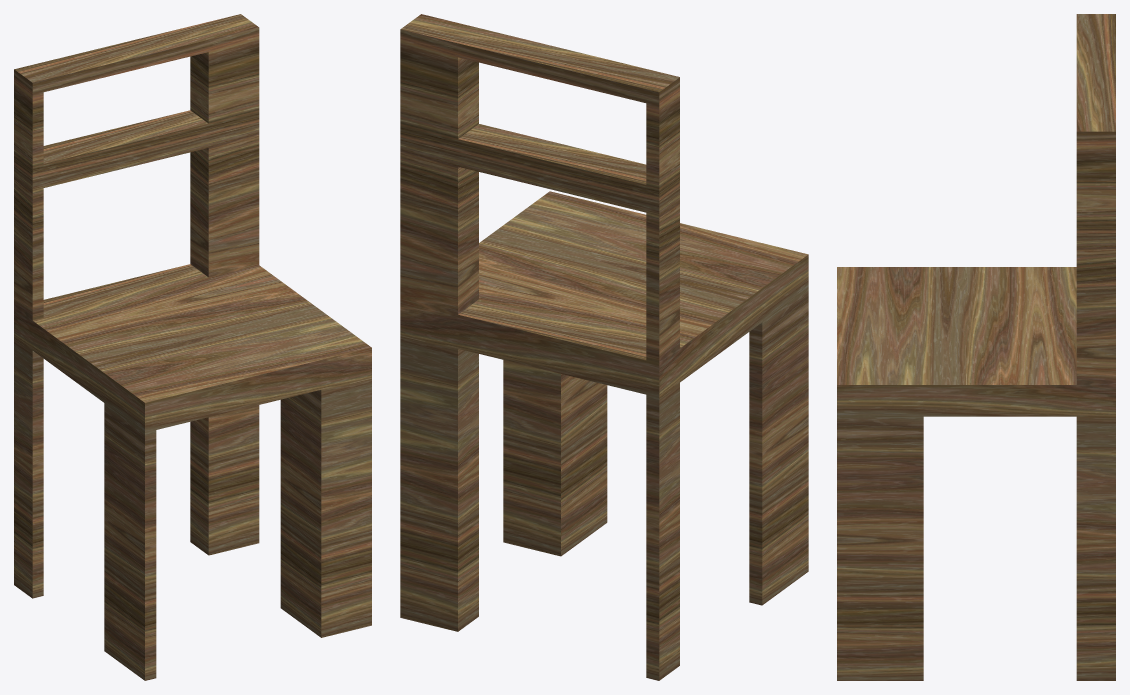
The model's file is SILLA.gltf.
The picture shows the model from 3 angles, left to right: view 1: azimuth 30°, elevation 25°; view 2: azimuth 150°, elevation 25°; view 3: azimuth 270°, elevation 25°; orthographic projection. The views are drawn at different scales.
Visible parts, largest first — view 1: Cube; view 2: Cube; view 3: Cube.
Boxes of the visible parts, x1,y1,x2,y2 form: Cube: (14, 14, 371, 680); Cube: (400, 14, 808, 680); Cube: (837, 14, 1115, 680).
Size of what is drawn, in the model's own units: 2 by 4.35 by 2.
1 material, 1 textured.
